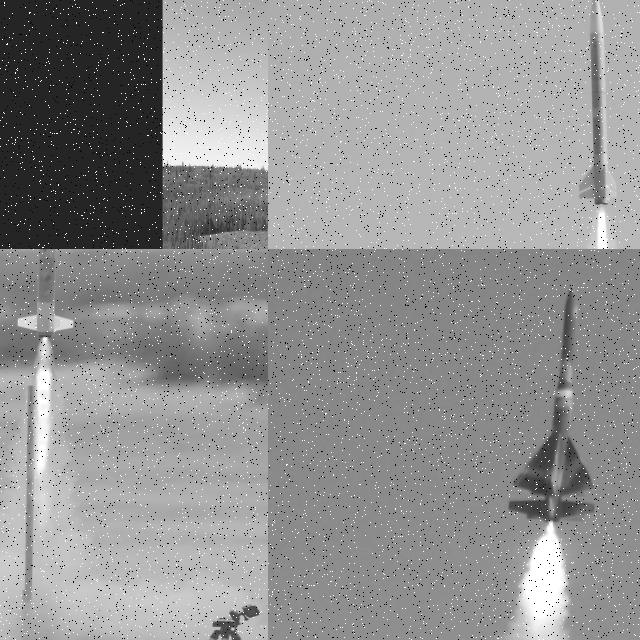Rocket: (506, 284, 597, 524), (578, 0, 618, 207), (16, 249, 75, 340)
